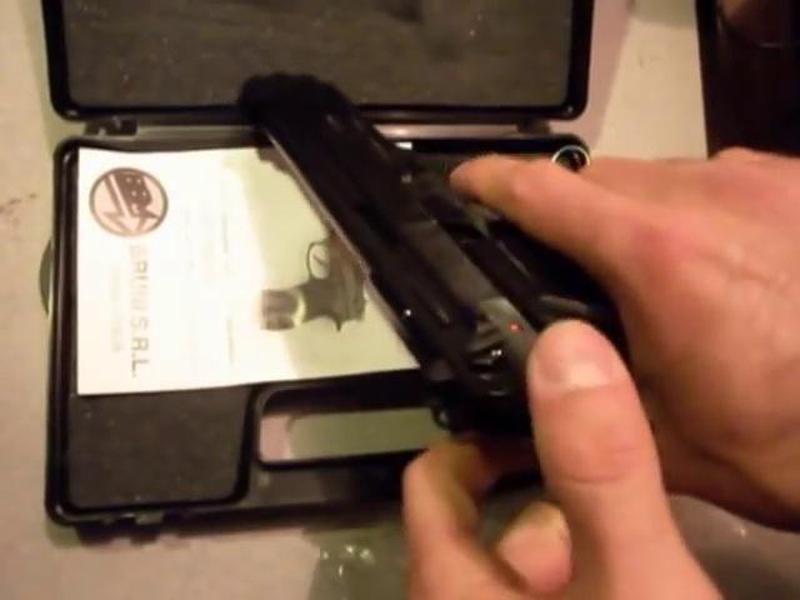Pistola: (210, 49, 683, 484)
